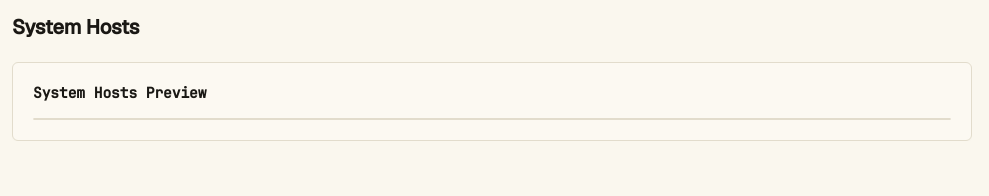
Test: SystemHosts › updates match count as the query changes
The width and height of the screenshot is (989, 196).
Press f
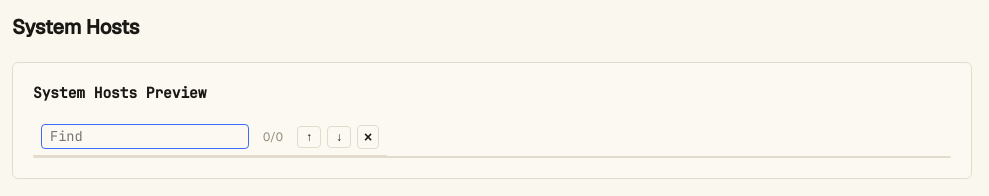
Type "example" into the field with test id "search-input" at (145, 136), box [41,124,249,149]
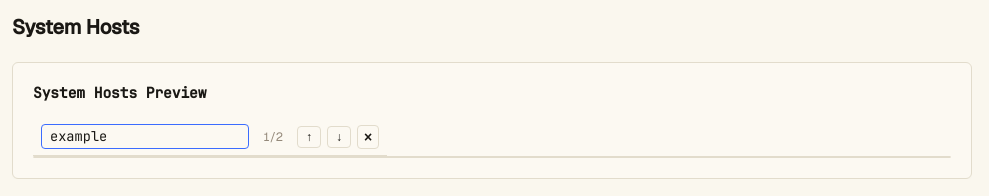
Now the text "1/2" is shown, box [263,128,283,144]
